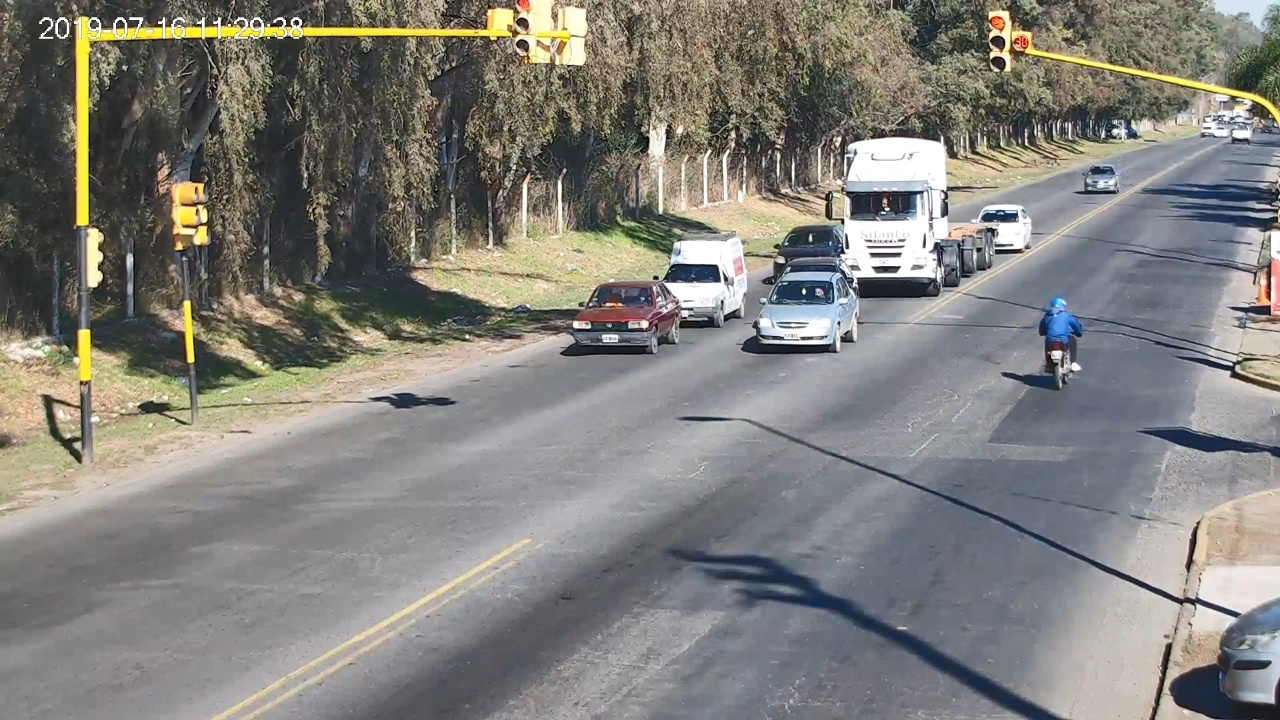front car: (757, 272, 858, 353), (572, 281, 681, 354)
motorcycle: (1039, 312, 1084, 389)
traffic light: (989, 11, 1011, 72)
